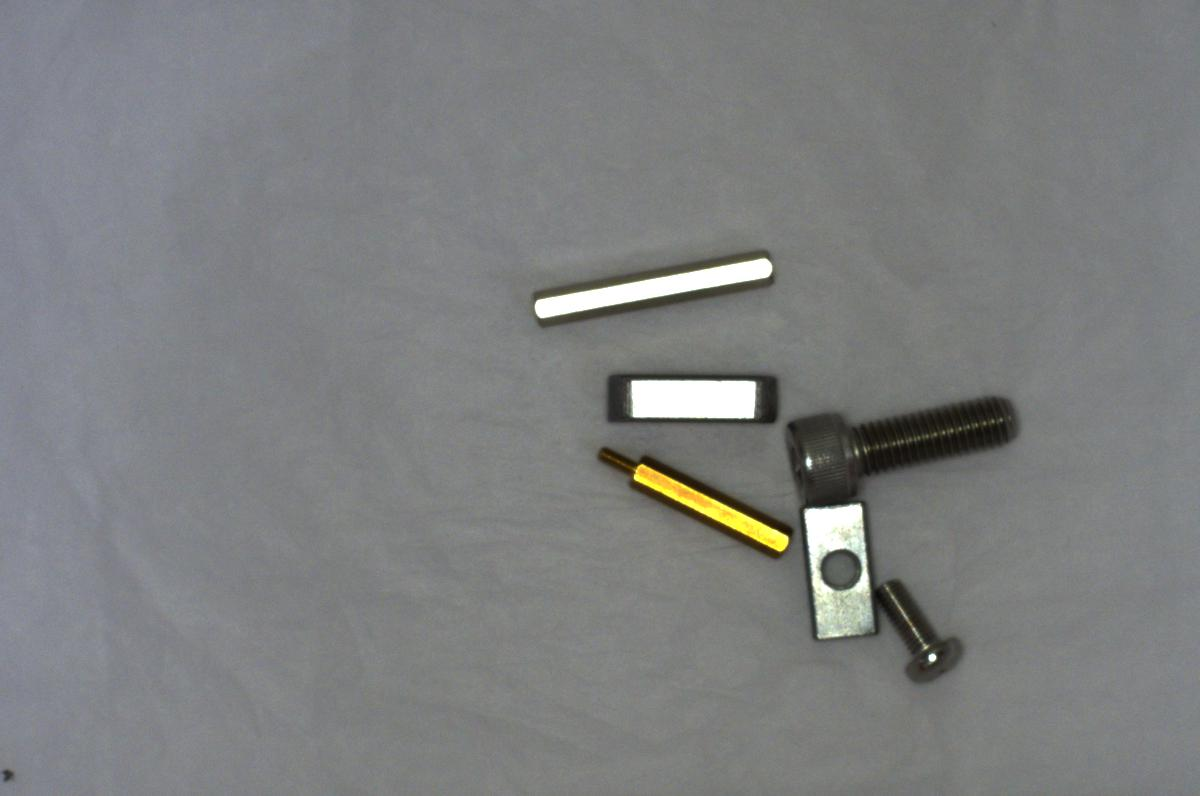Double hexagonal column: (521, 246, 782, 335)
Hexagon pillar: (588, 441, 800, 567)
Hexagon screw: (775, 380, 1041, 513)
Keybar: (596, 356, 782, 431)
Rectangular nut: (794, 496, 885, 651)
Round head screw: (866, 563, 974, 690)
